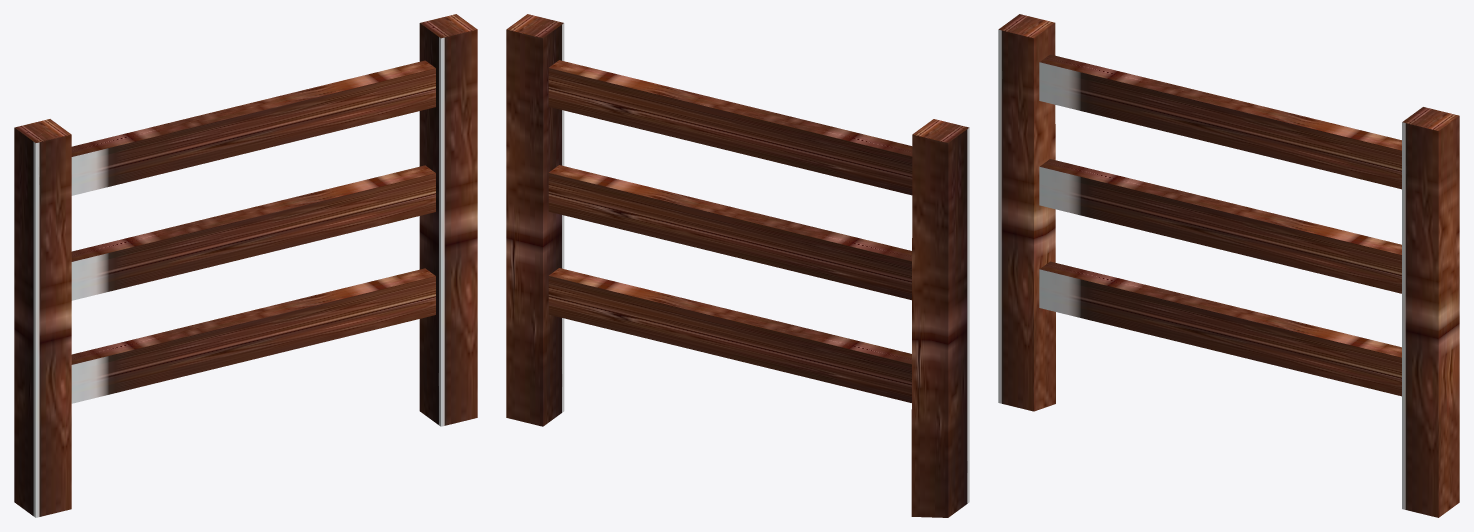
Rendered from dark red fence perfecht.fbx.
3 renders of one model, left to right at view 1: azimuth 30°, elevation 25°; view 2: azimuth 150°, elevation 25°; view 3: azimuth 330°, elevation 25°, orthographic.
Visible parts, largest first — view 1: Cube.030, Cube.031, Cube.033, Cube.034, Cube.032; view 2: Cube.030, Cube.031, Cube.032, Cube.033, Cube.034; view 3: Cube.031, Cube.030, Cube.034, Cube.033, Cube.032.
Boxes of the visible parts, box(x1,y1,x2,y2) form: Cube.030: box(14, 119, 71, 517); Cube.031: box(419, 14, 477, 426); Cube.033: box(71, 165, 435, 300); Cube.034: box(71, 268, 435, 403); Cube.032: box(71, 60, 435, 195); Cube.030: box(911, 119, 969, 517); Cube.031: box(506, 14, 564, 426); Cube.032: box(548, 60, 912, 195); Cube.033: box(548, 165, 911, 300); Cube.034: box(548, 268, 911, 402); Cube.031: box(1402, 107, 1459, 517); Cube.030: box(998, 14, 1055, 411); Cube.034: box(1039, 261, 1401, 396); Cube.033: box(1039, 159, 1401, 293); Cube.032: box(1039, 54, 1401, 189).
Bounding box in the file's own units: 595 × 500 × 50.
